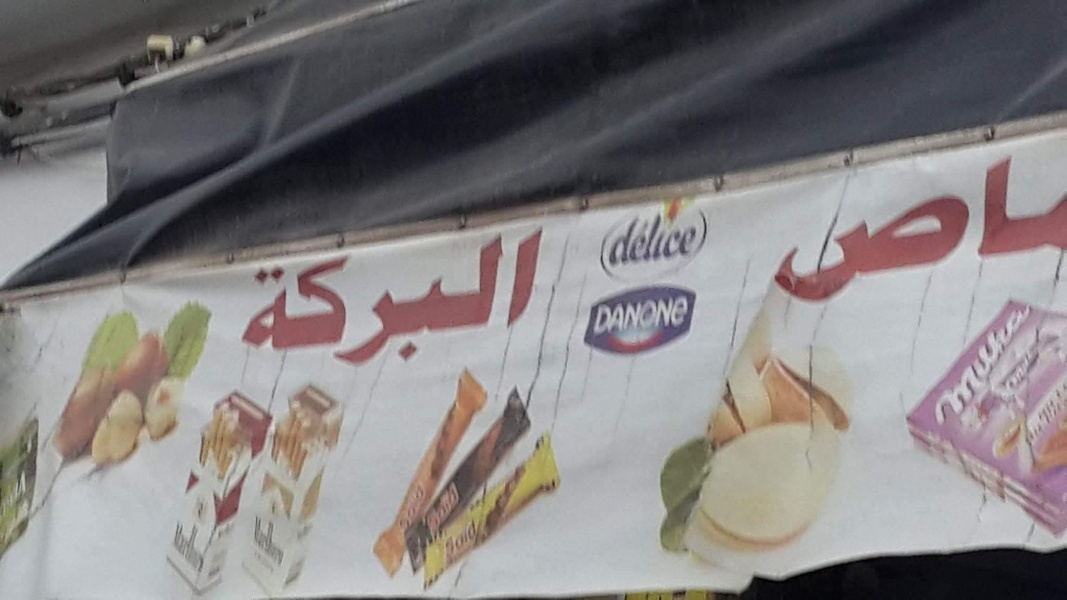text: (785, 160, 800, 311), (801, 160, 816, 311), (817, 160, 832, 311), (833, 160, 848, 311), (849, 160, 864, 311), (865, 160, 880, 311), (881, 160, 896, 311), (897, 160, 912, 311), (913, 160, 928, 311), (929, 160, 944, 311), (945, 160, 960, 311), (961, 160, 976, 311), (977, 160, 992, 311), (993, 160, 1008, 311), (1009, 160, 1024, 311), (1025, 160, 1040, 311), (1041, 160, 1056, 311), (1025, 295, 1041, 435), (241, 226, 256, 374), (257, 226, 272, 374), (273, 226, 288, 374), (289, 226, 304, 374), (305, 226, 320, 374), (321, 226, 336, 374), (337, 226, 352, 374), (353, 226, 368, 374), (369, 226, 384, 374), (385, 226, 400, 374), (401, 226, 416, 374), (417, 226, 432, 374), (433, 226, 448, 374), (449, 226, 464, 374), (465, 226, 480, 374), (481, 226, 496, 374), (497, 226, 512, 374), (513, 226, 528, 374), (529, 226, 544, 374), (929, 295, 944, 435), (945, 295, 960, 435), (961, 295, 976, 435), (977, 295, 992, 435), (993, 295, 1008, 435), (1009, 295, 1024, 435), (772, 160, 784, 311), (1057, 160, 1067, 311), (449, 479, 465, 541), (433, 479, 448, 541), (177, 517, 192, 577), (193, 517, 208, 577), (401, 479, 416, 538), (625, 211, 640, 269), (641, 211, 656, 269), (657, 211, 672, 269), (673, 211, 688, 269), (257, 515, 272, 569), (273, 515, 288, 569), (1009, 344, 1024, 398), (1025, 344, 1040, 398), (465, 516, 481, 562), (417, 479, 429, 538), (449, 516, 464, 562), (609, 295, 624, 339), (625, 295, 640, 339), (641, 295, 656, 339), (657, 295, 672, 339), (673, 295, 688, 339), (689, 211, 699, 269), (423, 479, 432, 541), (17, 467, 32, 501), (209, 517, 217, 577), (598, 295, 608, 339), (925, 295, 928, 435), (1001, 344, 1008, 398), (441, 516, 448, 562), (8, 467, 16, 501), (620, 211, 624, 269), (397, 479, 400, 538), (289, 515, 292, 569), (1041, 344, 1044, 398), (689, 295, 691, 339), (33, 467, 35, 501), (255, 515, 256, 569)
